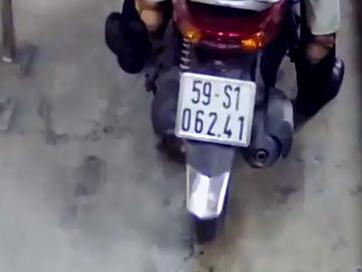num_plate: (175, 70, 258, 151)
